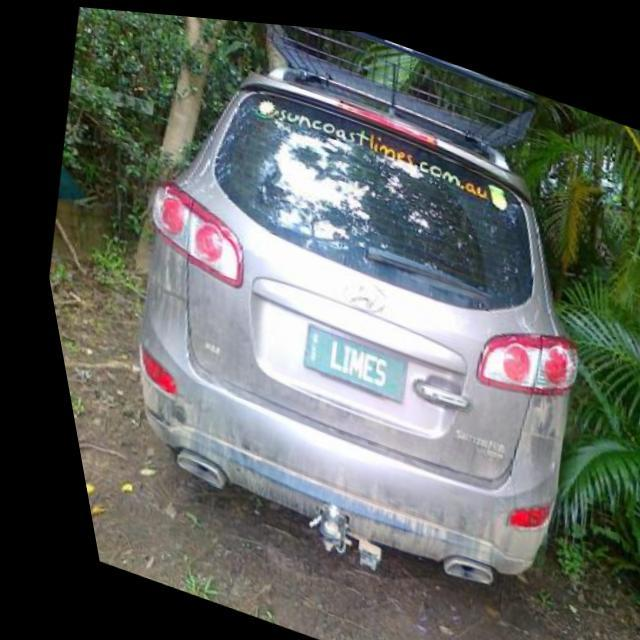license_plate: (284, 318, 402, 396)
